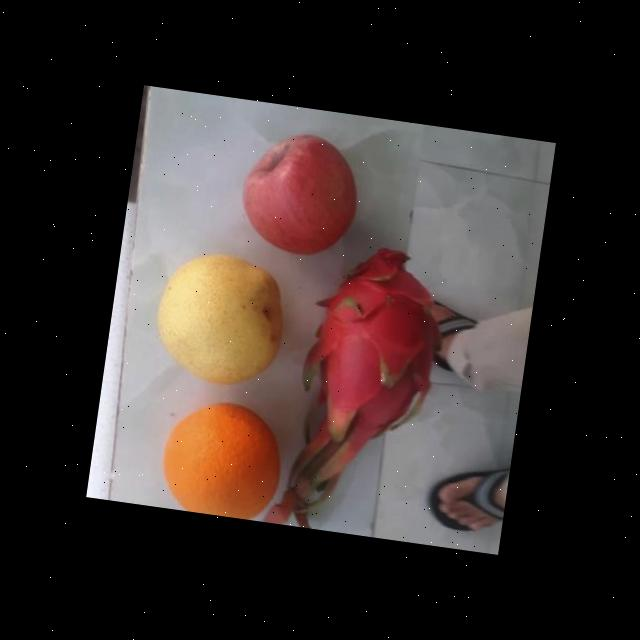apple: (232, 124, 364, 260)
orange: (154, 393, 288, 523)
pear: (144, 240, 293, 396)
pitaya: (298, 230, 451, 440)
